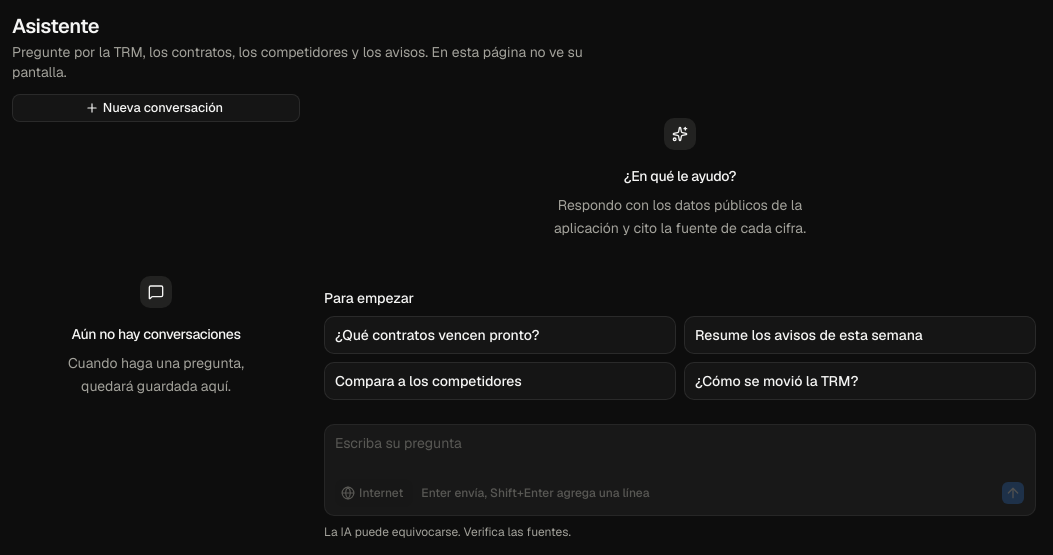
Test case: AssistantPage in StrictMode (next dev) › shows the user message and the streamed answer after the first message
Type "Hola asistente" into the text box named "Mensaje para el asistente" at (680, 448), box [325,424,1035,472]
Then press Enter
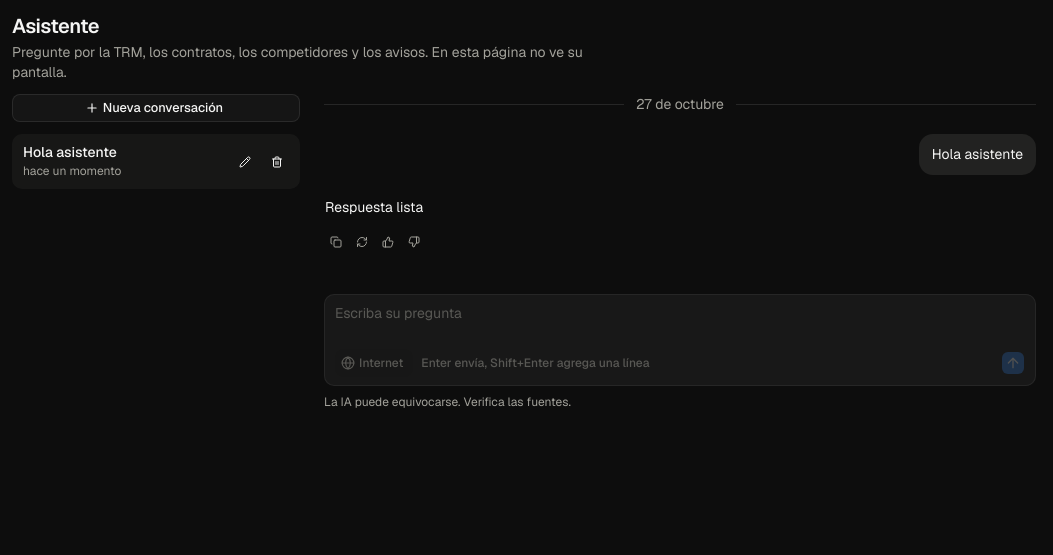
Now the 2nd button "Hola asistente" is shown, box [919,134,1036,175]
Now the text "Respuesta lista" is shown, box [325,196,423,219]
